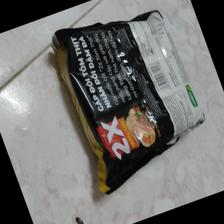3mien: (49, 9, 210, 200)
